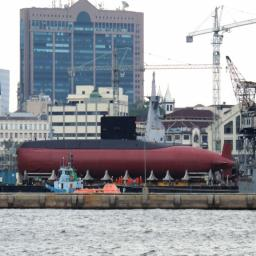submarine: (18, 113, 235, 178)
